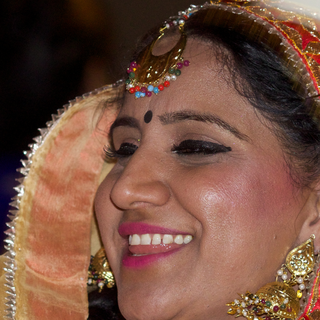eye: (173, 136, 230, 163), (107, 136, 144, 164)
